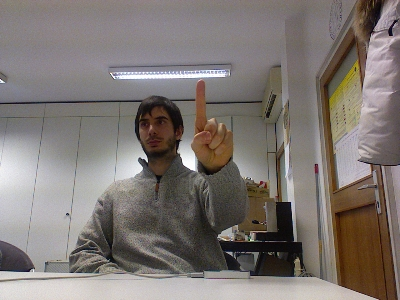食指: (189, 78, 234, 171)
